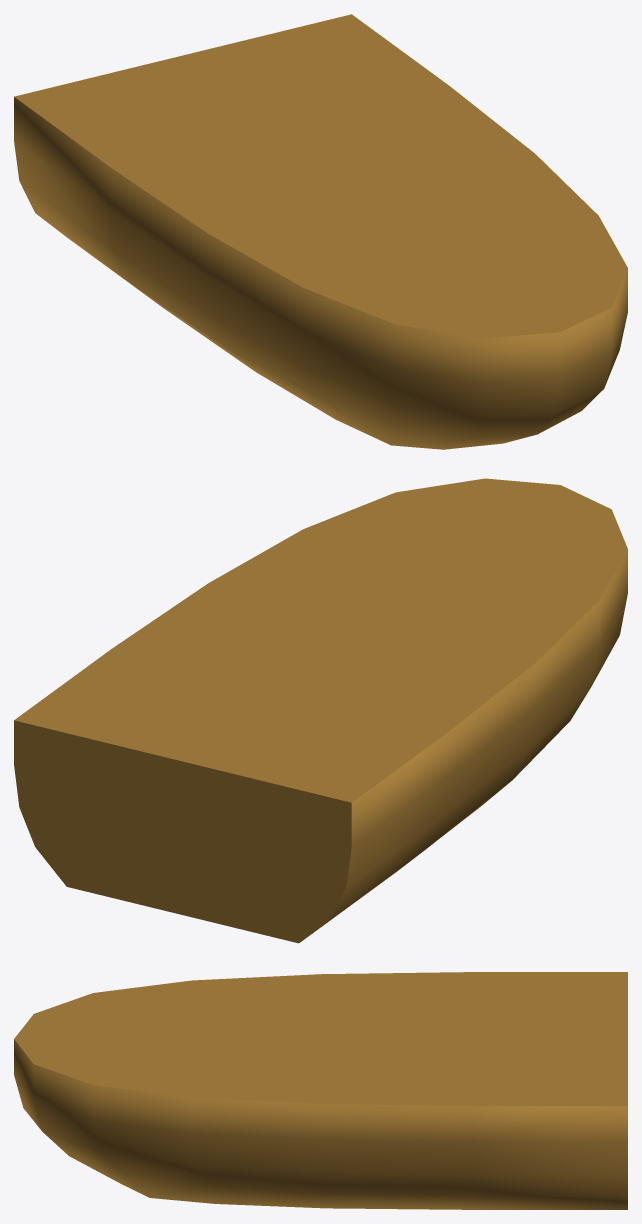
Rendered from Bread.Bottum.fbx.
The picture shows the model from 3 angles, top to bottom: view 1: azimuth 30°, elevation 25°; view 2: azimuth 150°, elevation 25°; view 3: azimuth 270°, elevation 25°; orthographic projection. The views are drawn at different scales.
Visible parts, largest first — view 1: Bun.Lower; view 2: Bun.Lower; view 3: Bun.Lower.
Boxes of the visible parts, x1,y1,x2,y2 form: Bun.Lower: (14, 14, 627, 449); Bun.Lower: (14, 478, 627, 943); Bun.Lower: (14, 972, 627, 1209).
Size of the model in its own units: 6.1 by 2.65 by 11.81.
